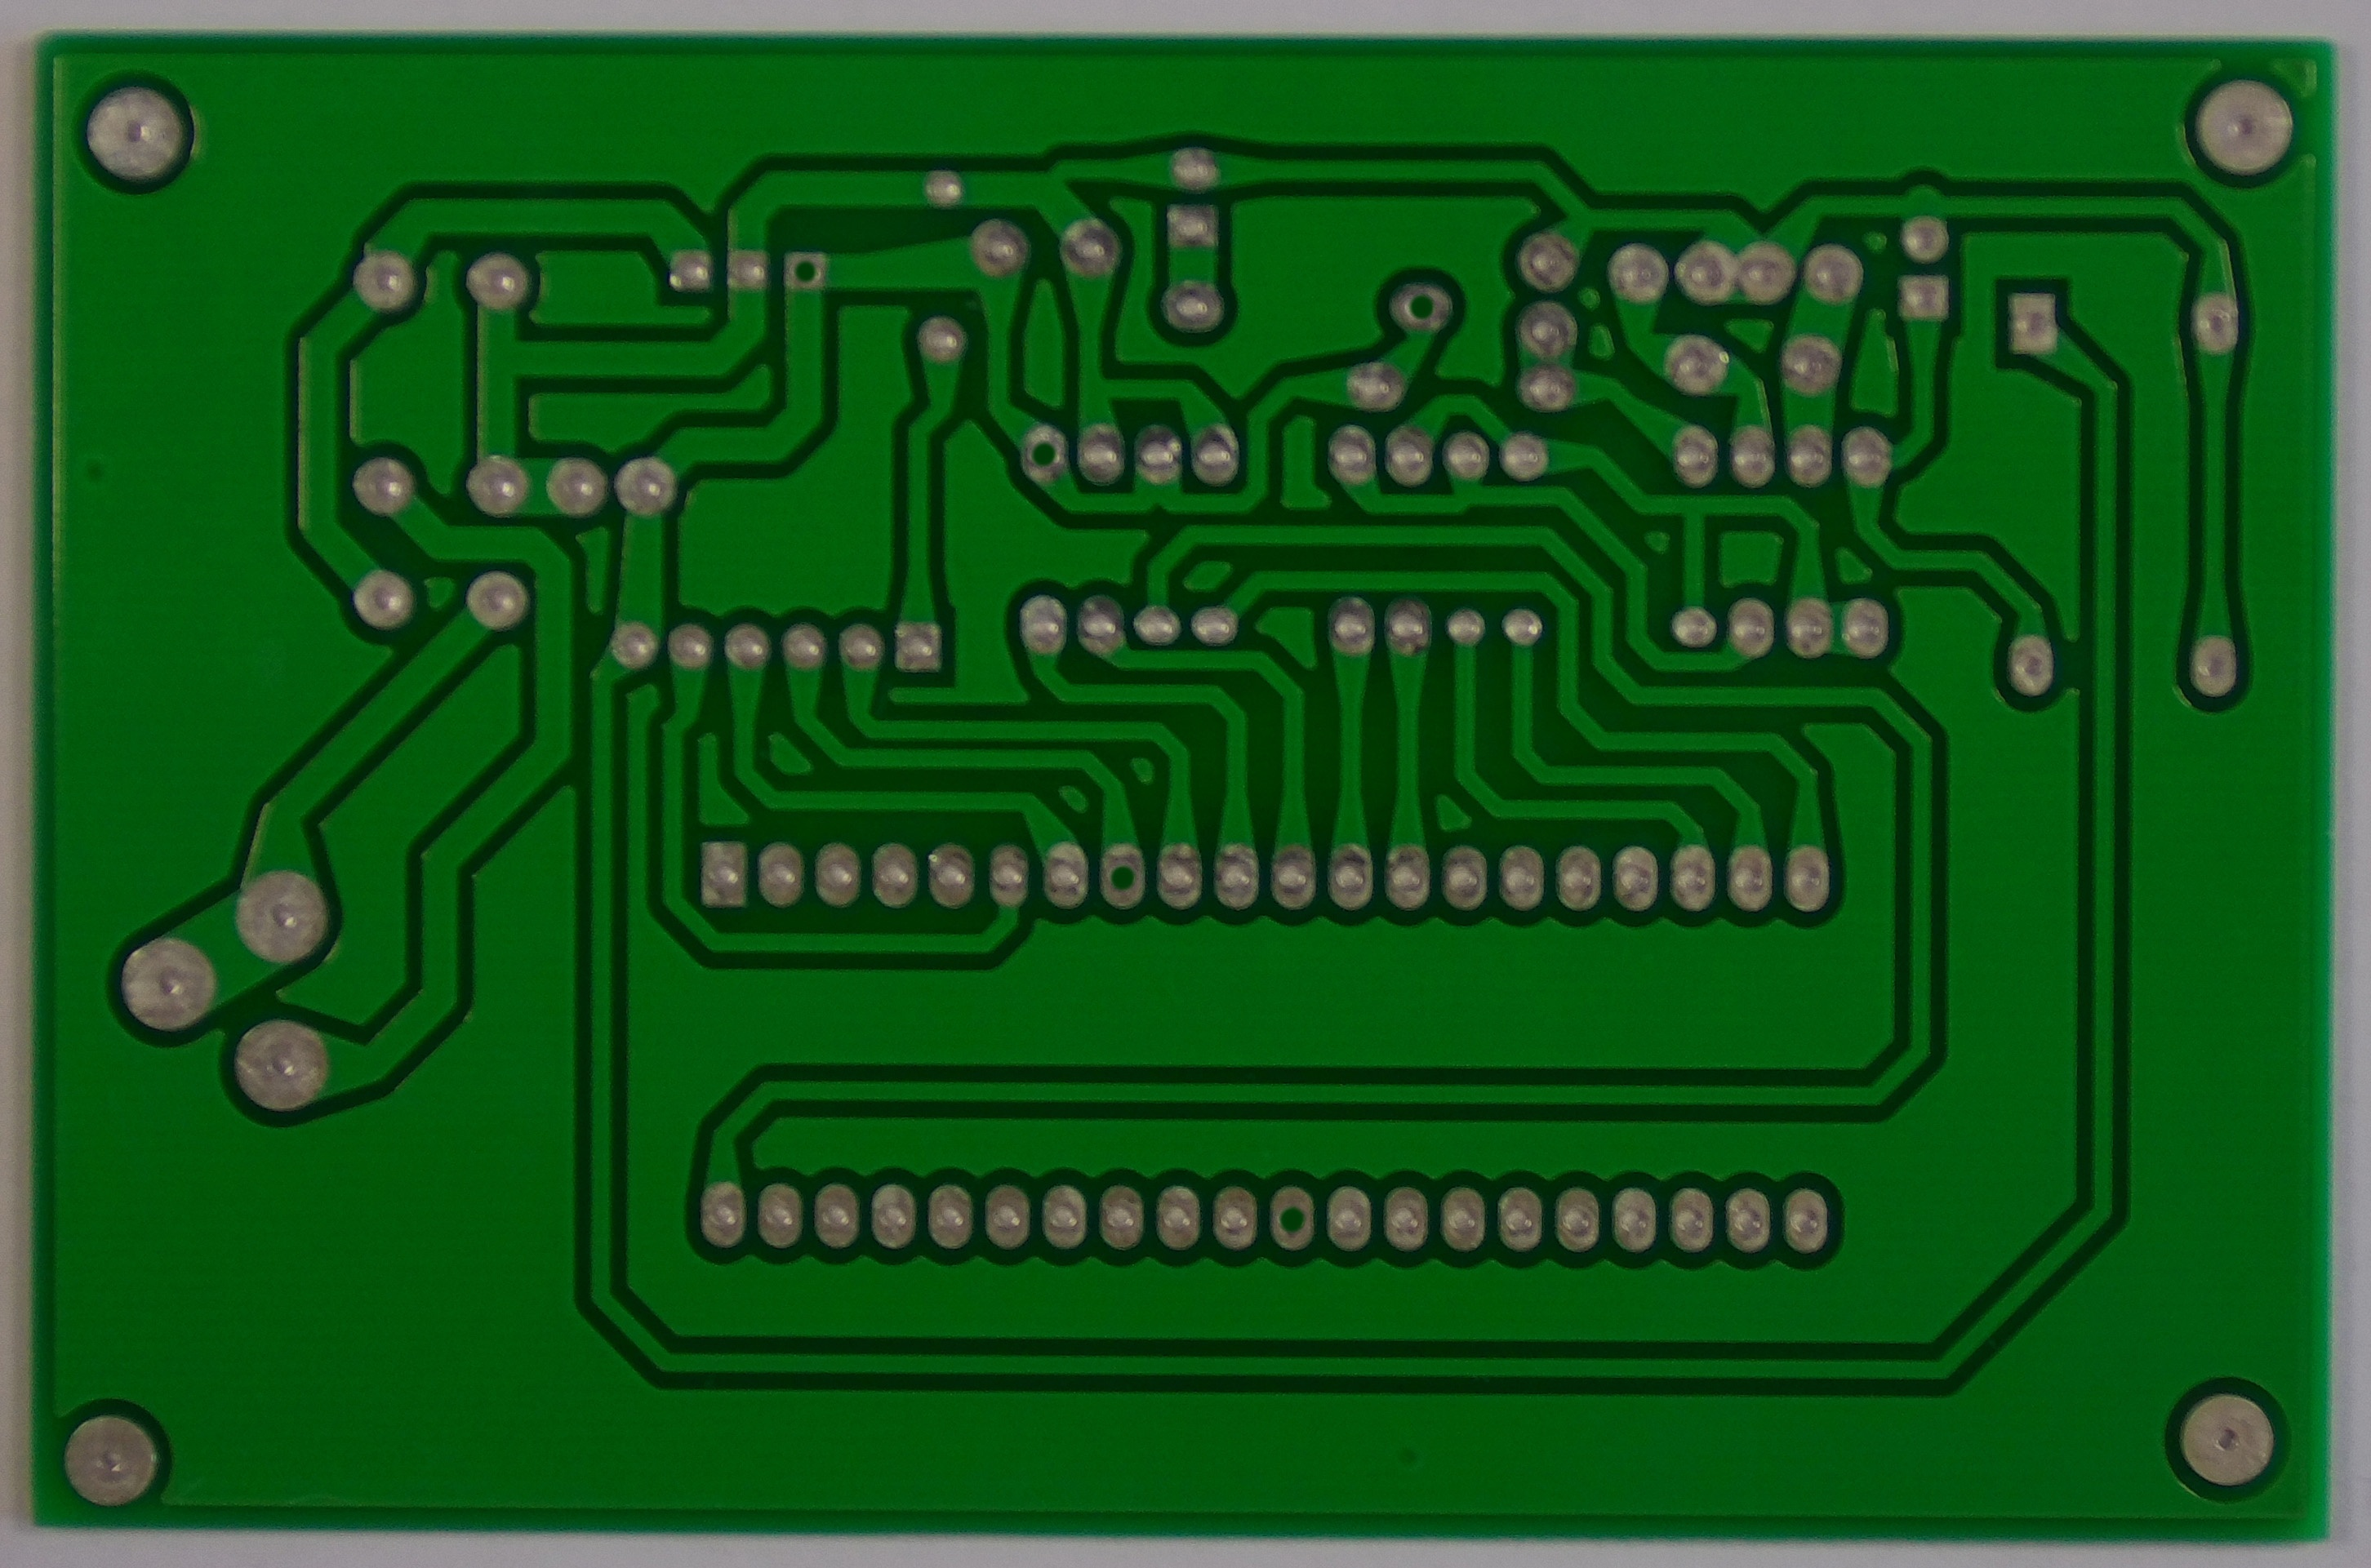missing_hole: (1255, 1176, 1331, 1262), (1385, 269, 1462, 340), (1088, 838, 1152, 920), (1006, 415, 1075, 488), (776, 240, 831, 296)
